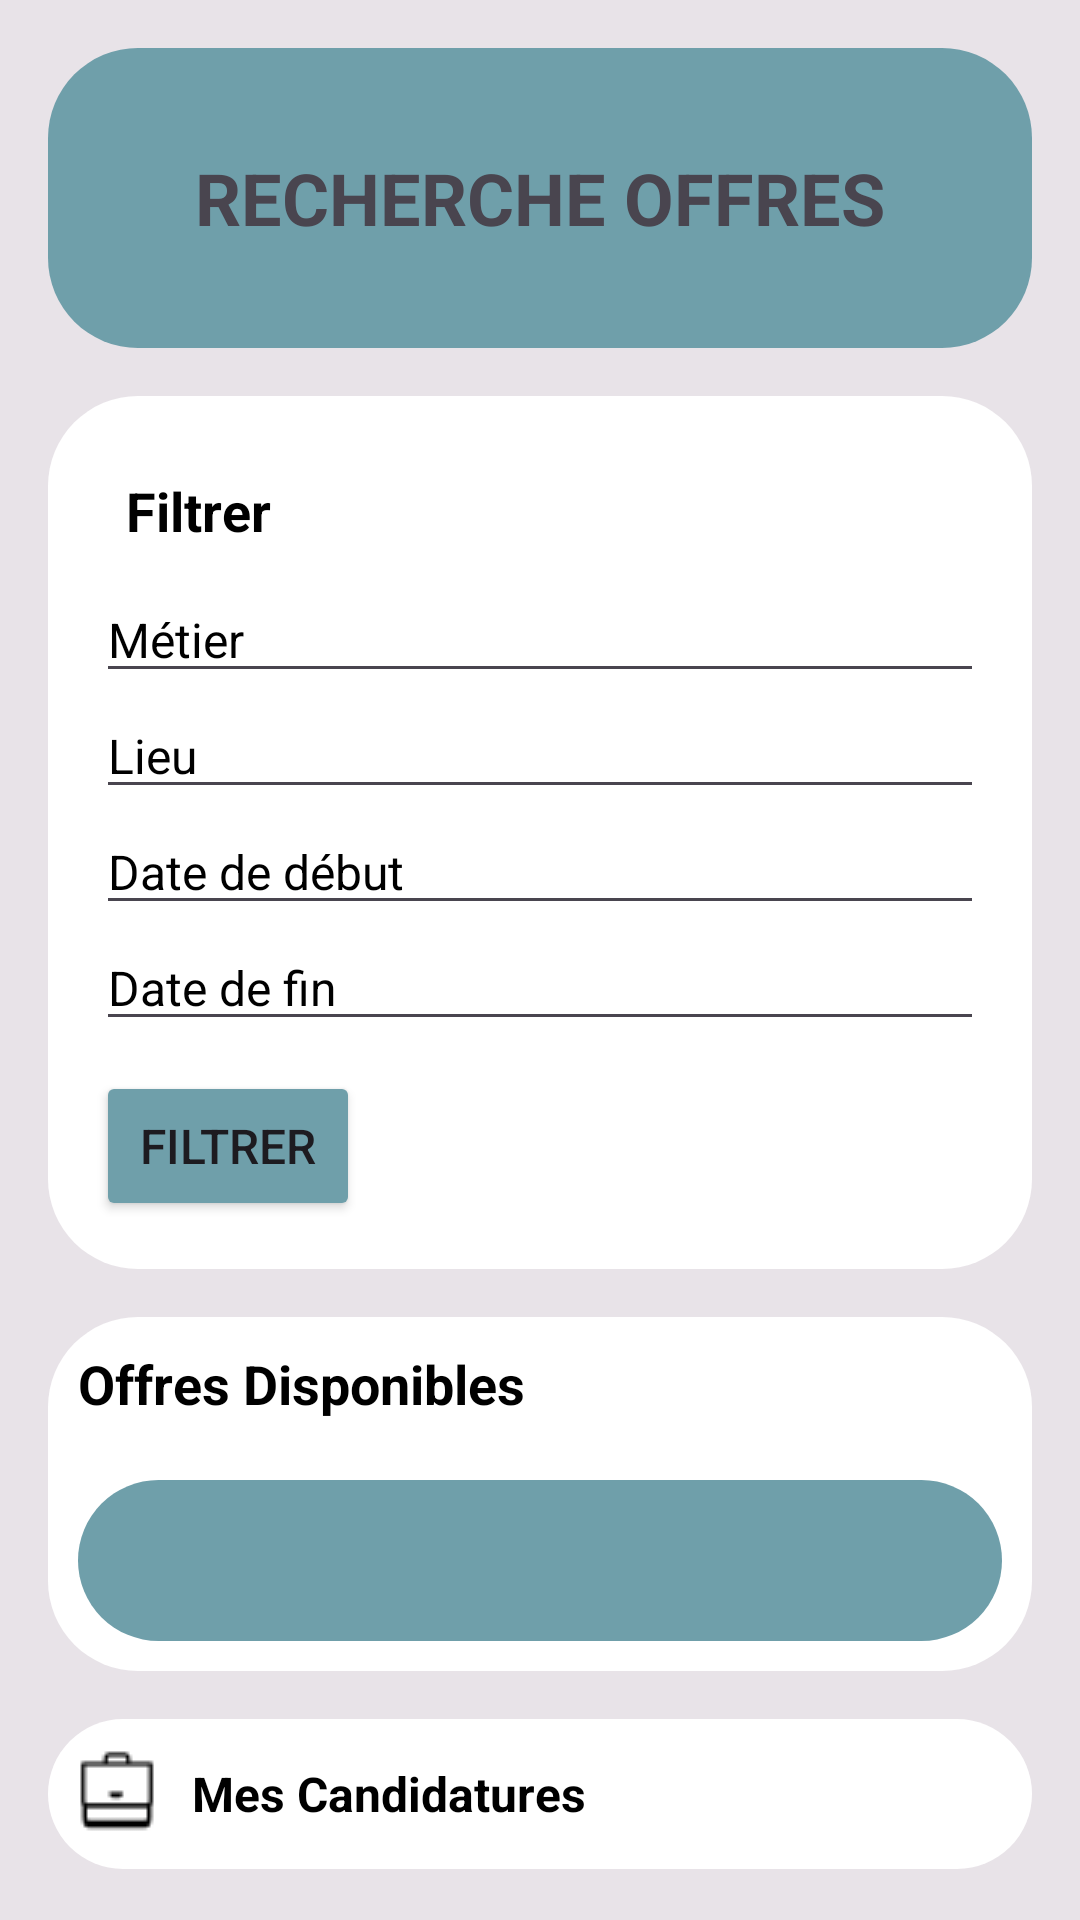

Icons on this 1080 × 1920 Android screen, each with its box as (x1, y1, x2, y2):
mallette: (80, 1751, 154, 1830)
